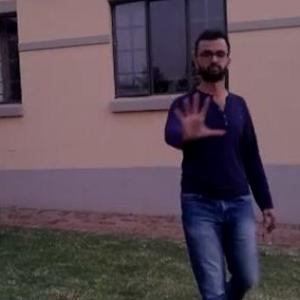follow_hand: (168, 88, 228, 144)
